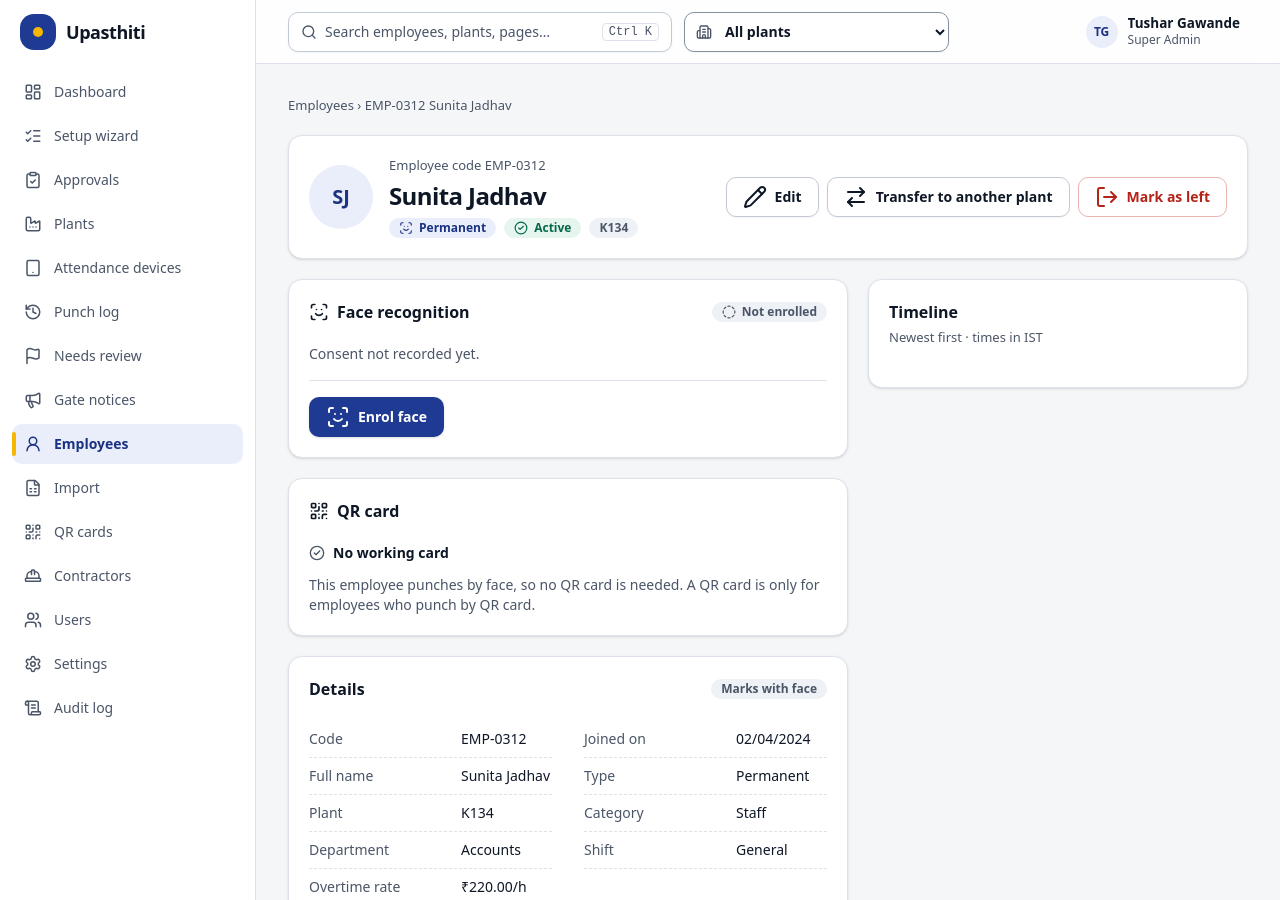
Test: consent dialog › 'No, I prefer a QR card' records the choice and offers a card
Click the button "Enrol face" at (376, 417), box [309, 397, 444, 437]
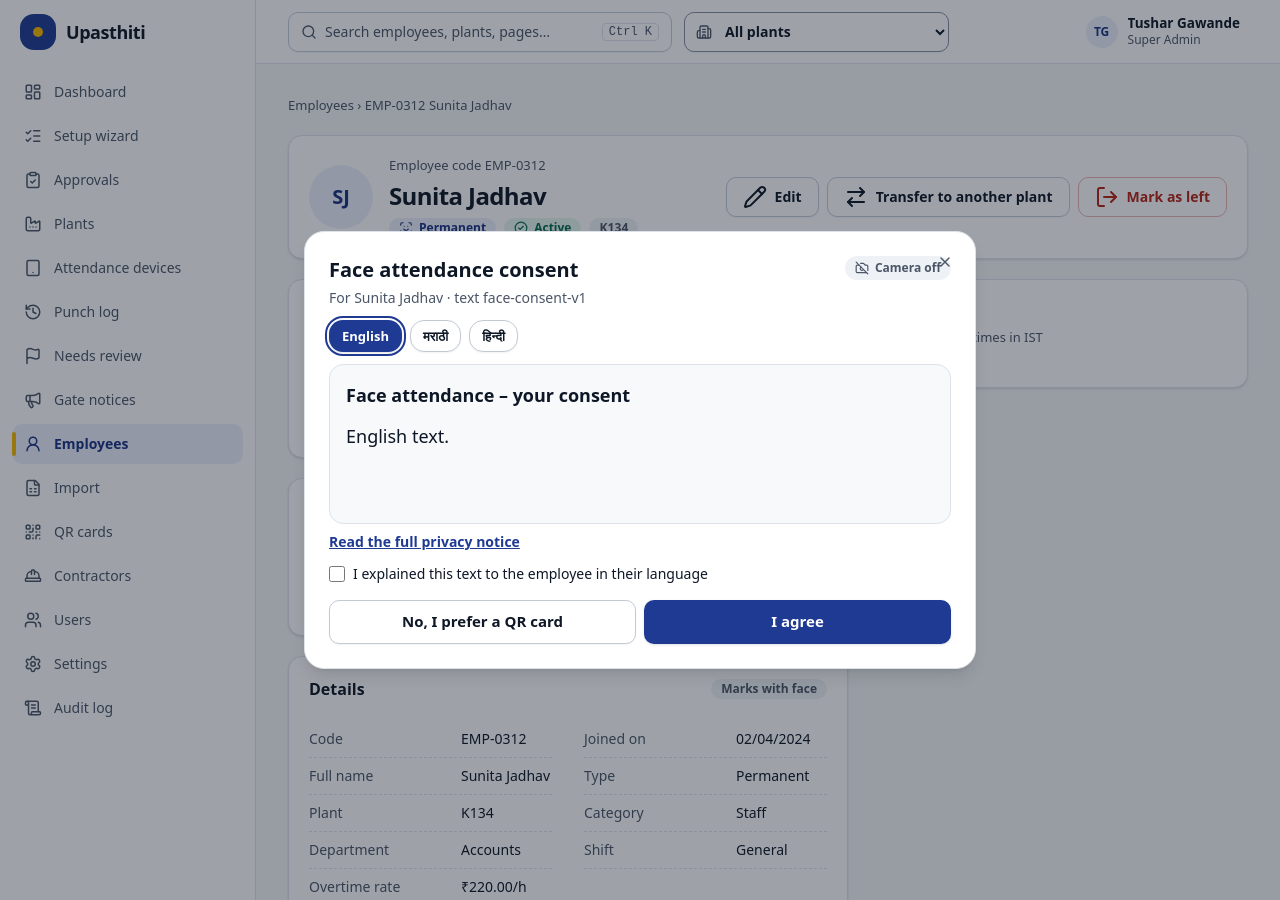
Click the button "No, I prefer a QR card" at (482, 622), box [329, 600, 636, 644]
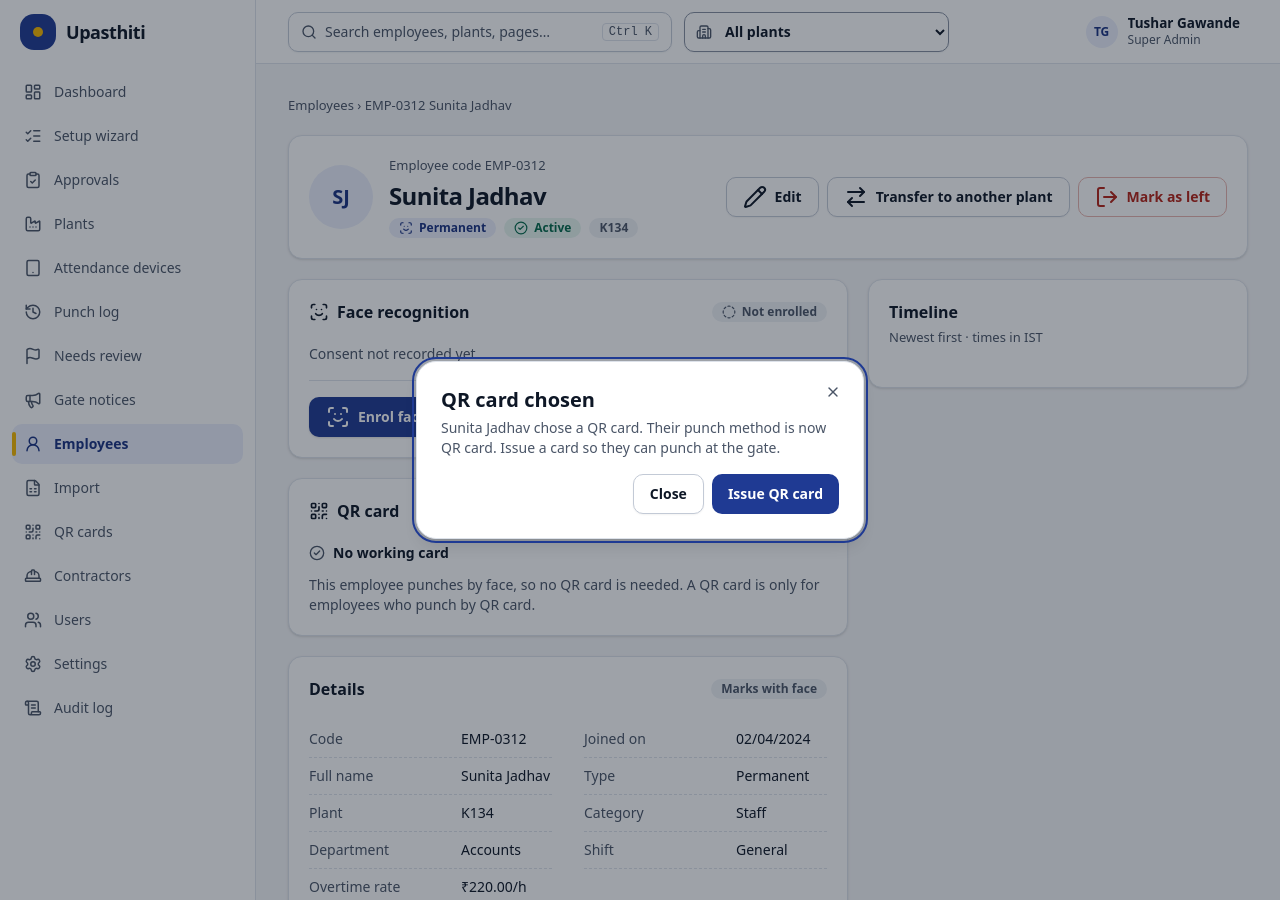
Now the heading "QR card chosen" is shown, box [441, 386, 595, 413]
